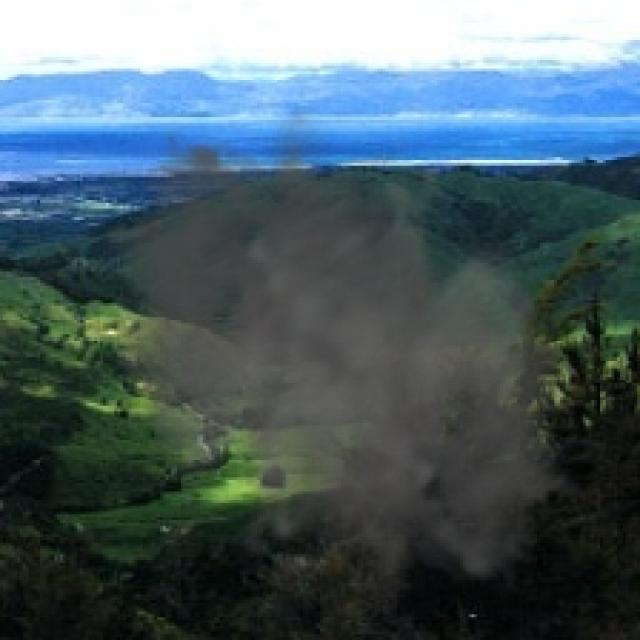smoke: (69, 103, 614, 620)
